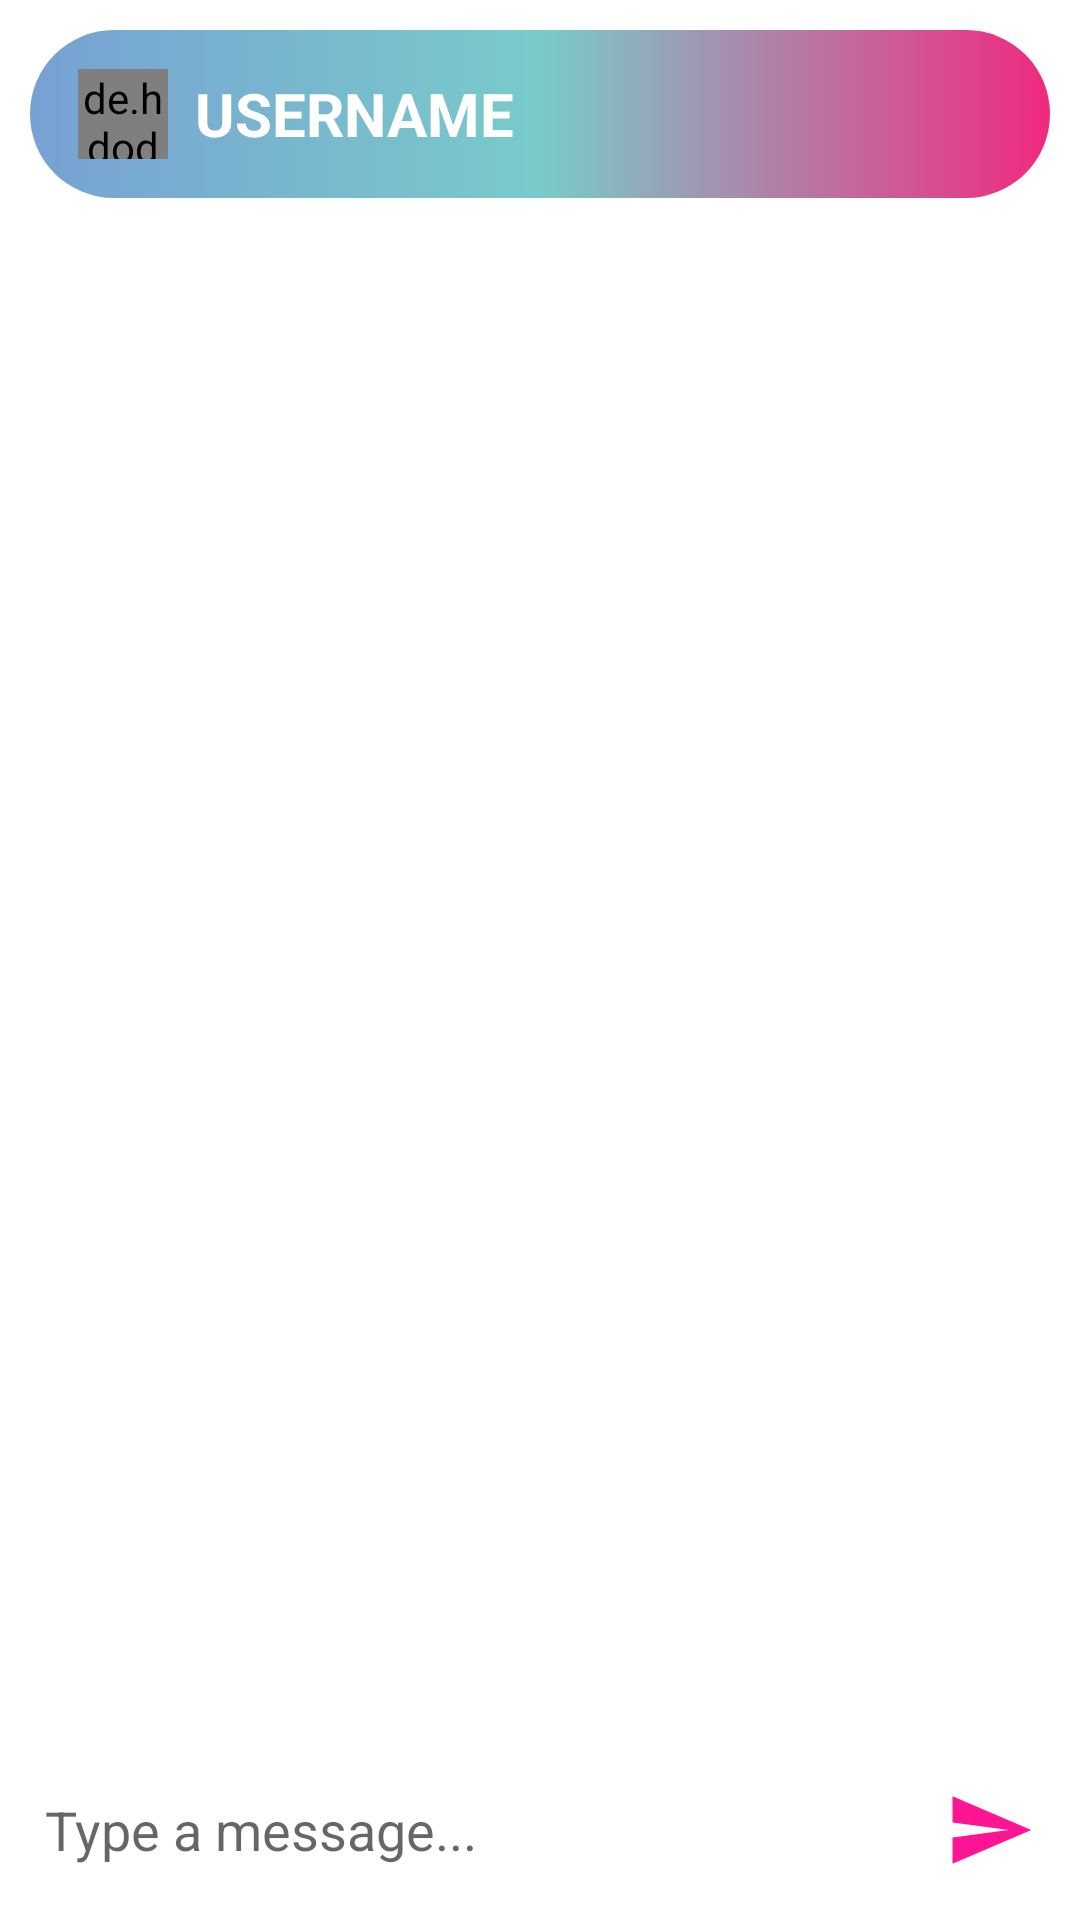

Where to tap for icons on this 1080px x 1920px app screen, as point (x, y):
send: point (991, 1830)
